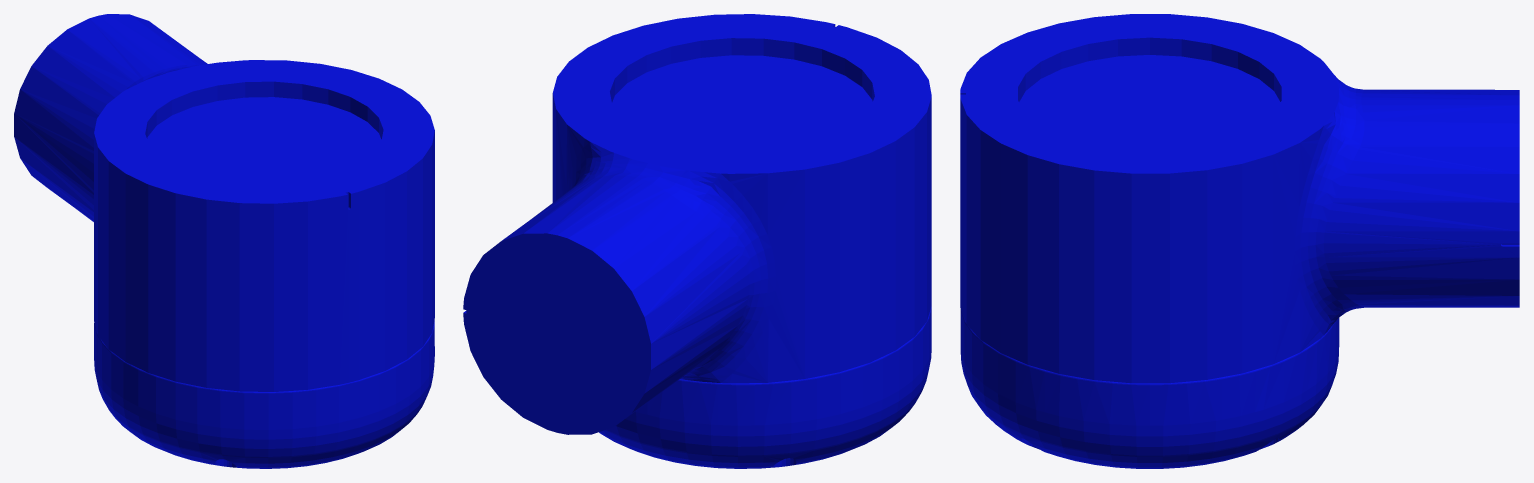
Rendered from head_yaw.glb.
The picture shows the model from 3 angles, left to right: view 1: azimuth 30°, elevation 25°; view 2: azimuth 150°, elevation 25°; view 3: azimuth 270°, elevation 25°; orthographic projection. The views are drawn at different scales.
Parts seen in each view (by area): view 1: head_Link_1; view 2: head_Link_1; view 3: head_Link_1.
Boxes of the visible parts, <box> form: head_Link_1: <box>14,14,434,468</box>; head_Link_1: <box>463,14,931,468</box>; head_Link_1: <box>960,14,1519,468</box>.
Bounding box in the file's own units: 0.0999 × 0.0939 × 0.1475.
